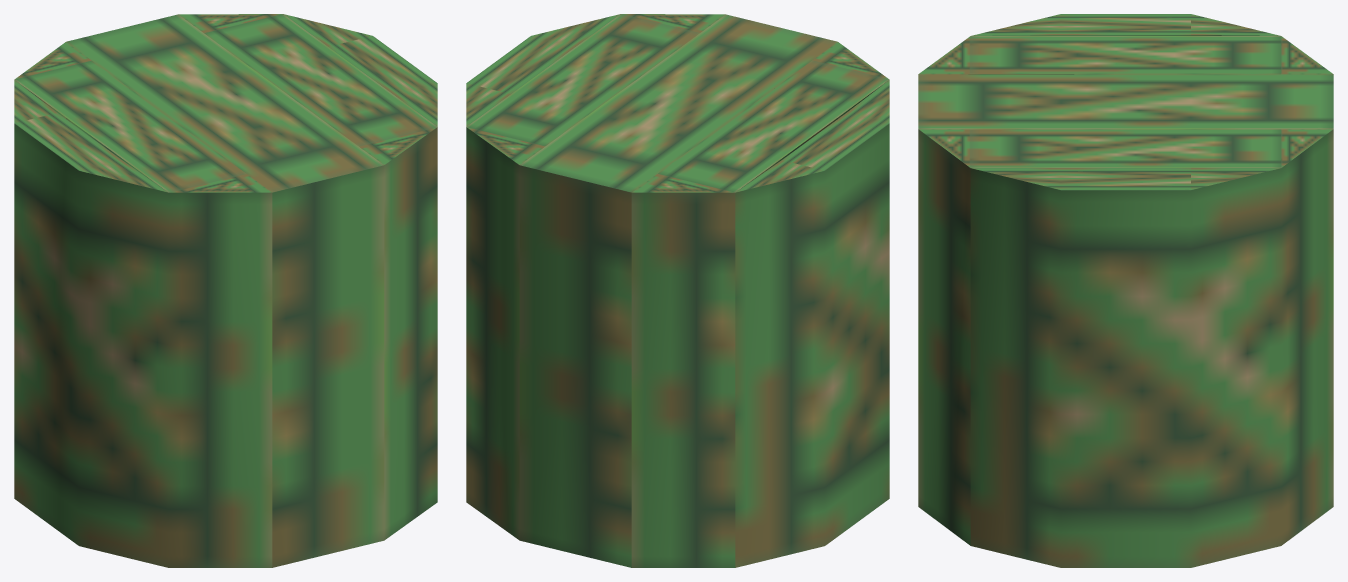
The model's file is cylinder-12-faced-16x16x16.obj.
The picture shows the model from 3 angles, left to right: view 1: azimuth 30°, elevation 25°; view 2: azimuth 150°, elevation 25°; view 3: azimuth 270°, elevation 25°; orthographic projection.
Parts seen in each view (by area): view 1: Default; view 2: Default; view 3: Default.
Boxes of the visible parts, box(x1,y1,x2,y2) form: Default: box(14, 14, 437, 567); Default: box(466, 14, 889, 567); Default: box(918, 14, 1333, 567).
Bounding box in the file's own units: 1 × 1 × 0.9955.
